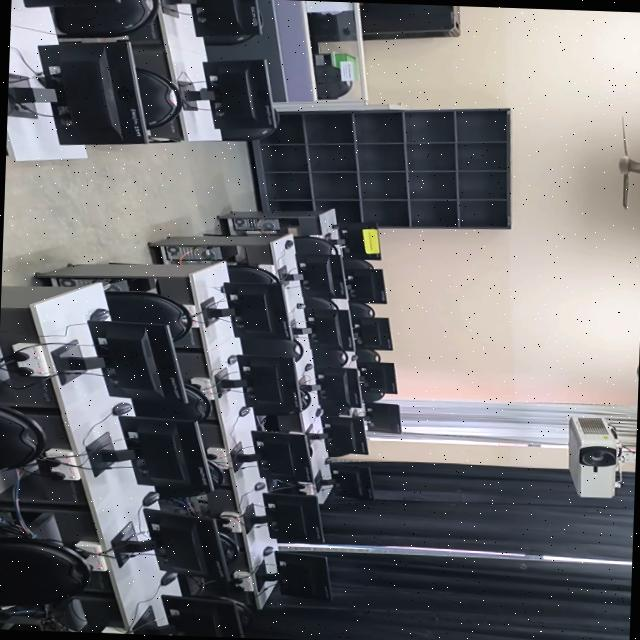Chair: (0, 538, 85, 612), (0, 403, 47, 473), (138, 66, 188, 127), (112, 289, 197, 323), (135, 397, 211, 416), (244, 335, 309, 357), (294, 234, 340, 253), (122, 0, 152, 28), (231, 264, 278, 280), (317, 349, 350, 366)
Cpu: (58, 274, 156, 293), (163, 244, 240, 262), (232, 216, 292, 233)
Monitor: (7, 43, 152, 141), (51, 320, 189, 400), (90, 416, 210, 489), (114, 507, 230, 577), (196, 60, 278, 130), (198, 278, 292, 338), (138, 596, 254, 638), (214, 355, 302, 408), (230, 432, 312, 481), (244, 494, 324, 544), (154, 0, 261, 34), (256, 552, 334, 596), (281, 254, 348, 296), (300, 367, 366, 405), (304, 418, 368, 454), (311, 462, 372, 497), (304, 306, 351, 351), (342, 268, 390, 304), (339, 224, 386, 258), (354, 314, 394, 350), (363, 402, 403, 436), (356, 360, 396, 394), (12, 0, 119, 3)
Mouse: (108, 400, 135, 415)
Projector: (554, 412, 635, 502)
